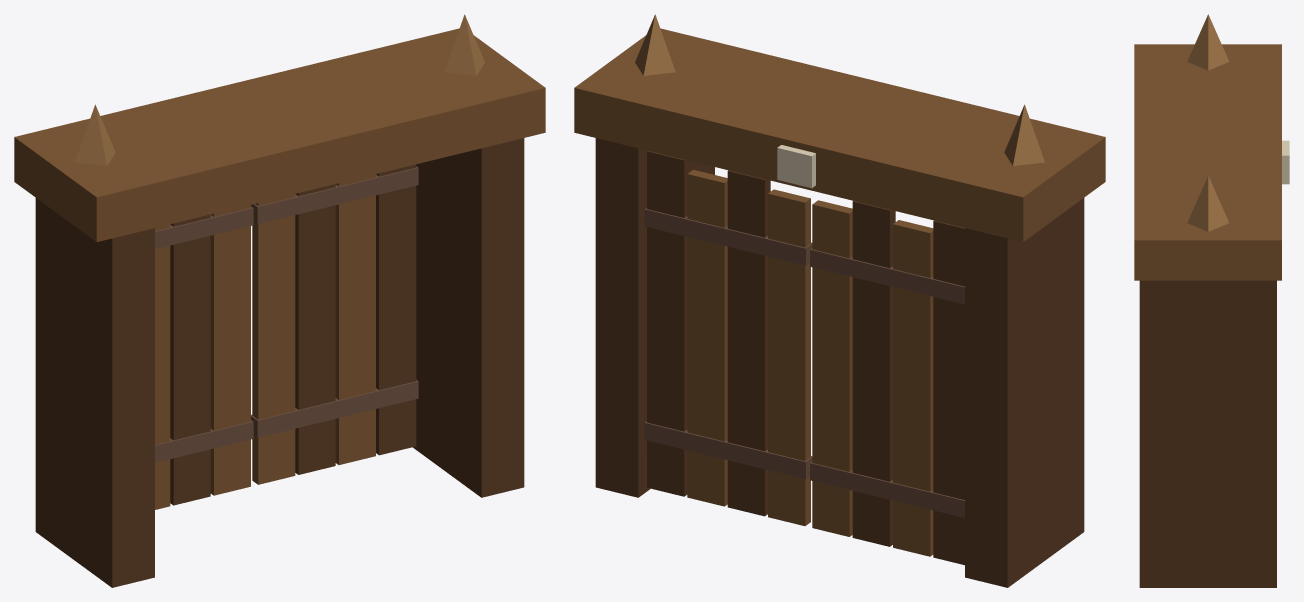
File: SM_PitGate.fbx
3 renders of one model, left to right at view 1: azimuth 30°, elevation 25°; view 2: azimuth 150°, elevation 25°; view 3: azimuth 270°, elevation 25°, orthographic. The views are drawn at different scales.
Parts seen in each view (by area): view 1: SM_PitGate_Frame, DoorL, DoorR; view 2: SM_PitGate_Frame, DoorL, DoorR; view 3: SM_PitGate_Frame.
Part boxes in pixels (<box>): SM_PitGate_Frame: <box>14,14,545,587</box>; DoorL: <box>251,164,418,484</box>; DoorR: <box>155,204,253,509</box>; SM_PitGate_Frame: <box>574,14,1105,587</box>; DoorL: <box>644,150,812,525</box>; DoorR: <box>810,200,964,565</box>; SM_PitGate_Frame: <box>1134,14,1289,587</box>.
Size of the model in its own units: 4.4 by 1.47 by 4.22.
